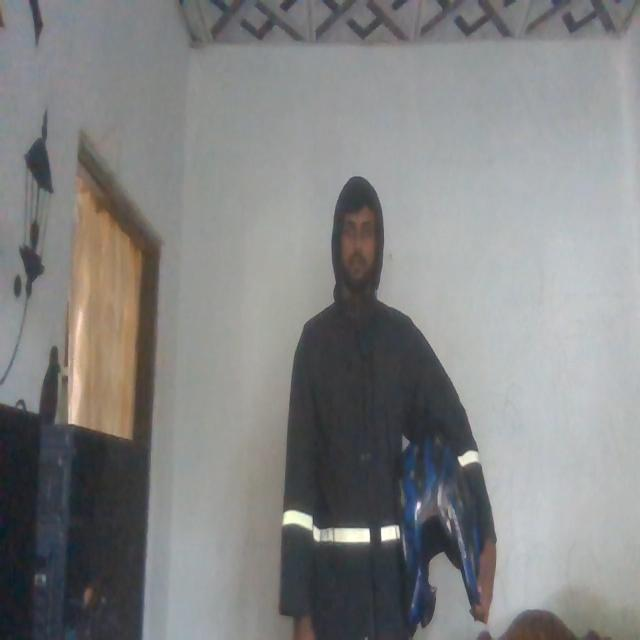Jacket_Wearer: (277, 290, 477, 640)
Person: (278, 165, 482, 640)
